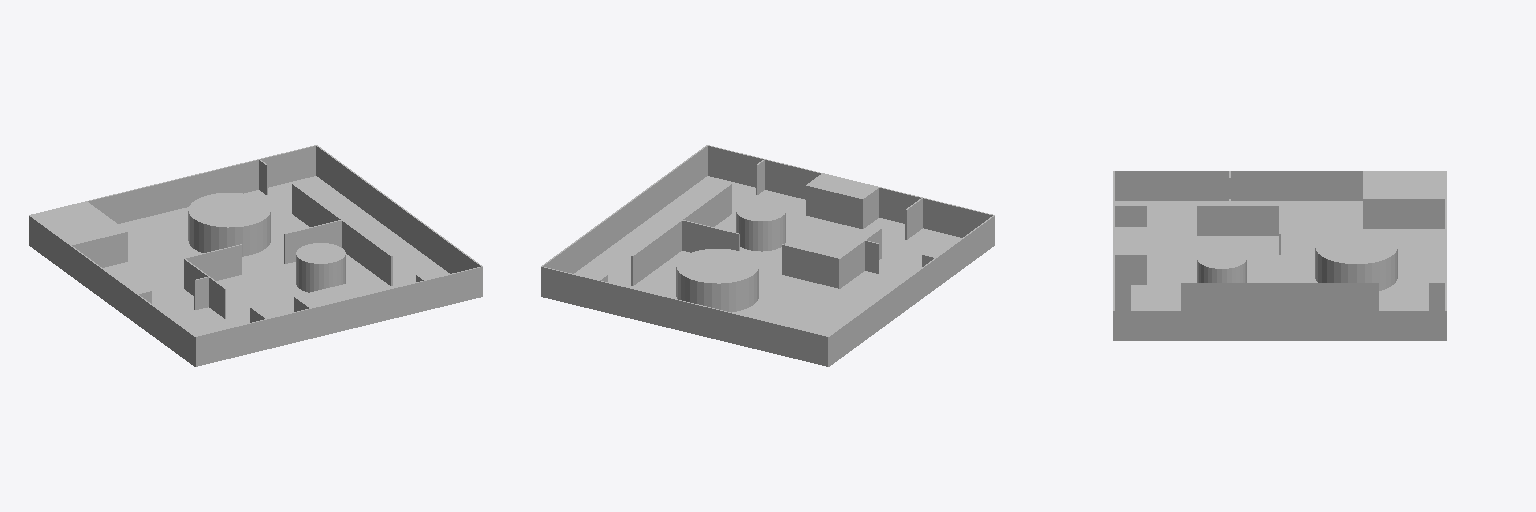
Rendered from floor_plan.obj.
The picture shows the model from 3 angles: view 1: azimuth 30°, elevation 25°; view 2: azimuth 150°, elevation 25°; view 3: azimuth 270°, elevation 25°; orthographic projection.
Visible parts, largest first — view 1: Plane, Cube.001, Cube, Cube.003, Cube.004, Cylinder, Cube.014, Cube.005, Cylinder.001, Cube.006, Cube.002, Cube.010 (+1 smaller); view 2: Plane, Cube, Cube.001, Cube.003, Cube.004, Cylinder, Cube.010, Cube.005, Cube.014, Cylinder.001, Cube.006, Cube.002 (+2 smaller); view 3: Plane, Cube.004, Cube.003, Cube.005, Cube.014, Cylinder, Cube.007, Cube.010, Cylinder.001, Cube.011.
Part boxes in pixels (x1,y1,x2,y2): Plane: (103,176,449,335); Cube.001: (195,267,482,366); Cube: (31,145,315,223); Cube.003: (29,215,194,366); Cube.004: (316,145,482,273); Cylinder: (188,193,270,256); Cube.014: (31,202,127,267); Cube.005: (292,184,392,285); Cylinder.001: (296,243,345,292); Cube.006: (184,244,241,280); Cube.002: (284,220,341,263); Cube.010: (294,283,365,311); Plane: (574,176,961,321); Cube: (541,266,828,366); Cube.001: (708,145,993,237); Cube.003: (829,215,994,366); Cube.004: (541,145,707,273); Cylinder: (676,249,758,312); Cube.010: (806,173,878,228); Cube.005: (631,184,731,285); Cube.014: (771,292,868,335); Cylinder.001: (736,201,785,251); Cube.006: (782,244,839,288); Cube.002: (682,220,739,252); Plane: (1115,201,1444,310); Cube.004: (1114,311,1445,340); Cube.003: (1115,171,1362,200); Cube.005: (1181,283,1378,310); Cube.014: (1363,171,1445,228); Cylinder: (1315,229,1397,290); Cube.007: (1197,206,1278,235); Cube.010: (1115,227,1146,284); Cylinder.001: (1197,248,1246,282); Cube.011: (1115,206,1146,226).
Bounding box in the file's own units: 20.1 × 2 × 20.1.